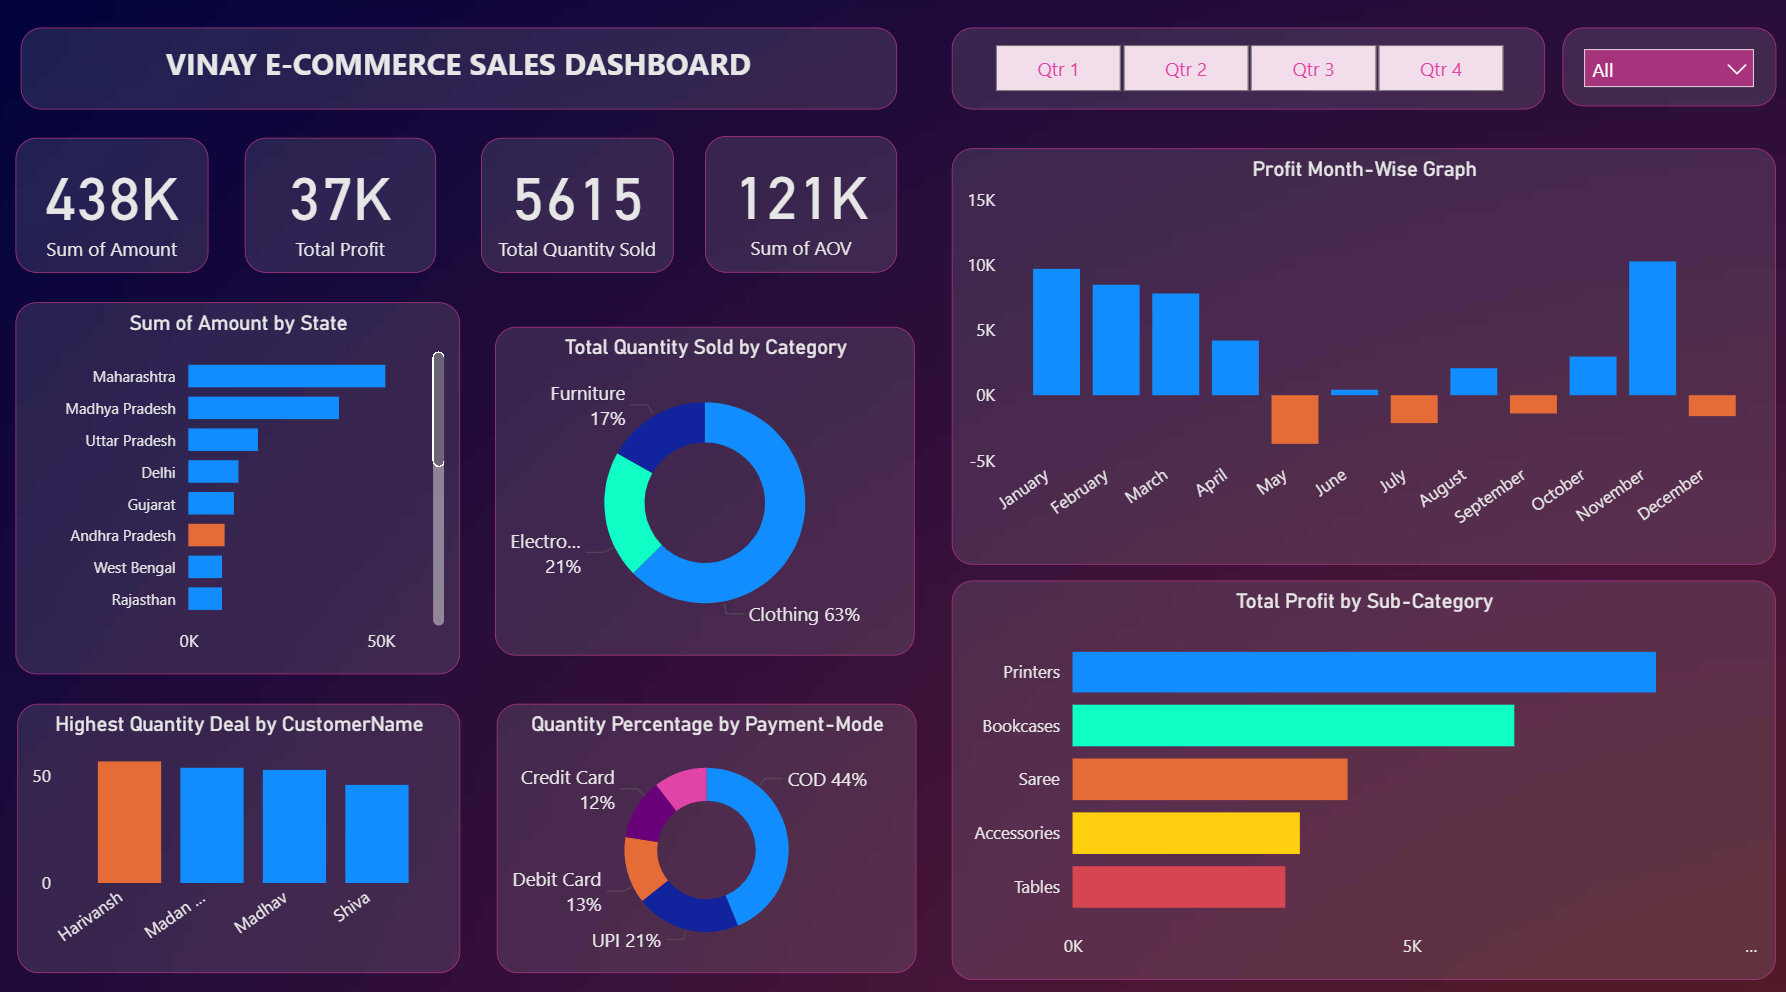

This screenshot's page, from the dashboard's own definition file:
{"tool":"powerbi","page":{"name":"Page 1","canvas":[1280,720],"ordinal":0},"visuals":[{"type":"textbox","box":[21.1,22.4,623.1,58.5],"z":0},{"type":"columnChart","title":"Profit Month-Wise Graph","fields":{"Category":["Orders.Order Date.Variation.Date Hierarchy.Month"],"Y":["Details.Profit"]},"box":[682.8,108.2,585.8,296],"z":1000},{"type":"barChart","fields":{"Category":["Details.Sub-Category"],"Y":["Details.Profit"]},"box":[682.8,415.4,585.8,284.8],"z":2000},{"type":"donutChart","fields":{"Category":["Details.Category"],"Y":["Details.Quantity"]},"box":[358.2,235.1,298.5,233.8],"z":3000},{"type":"donutChart","fields":{"Category":["Details.PaymentMode"],"Y":["Details.Quantity"]},"box":[359.4,503.7,298.5,191.5],"z":4000},{"type":"card","fields":{"Values":["Details.Amount"]},"box":[18,101,137,96],"z":5000},{"type":"card","fields":{"Values":["Details.Quantity"]},"box":[348,101,137,96],"z":6000},{"type":"card","fields":{"Values":["Details.Profit"]},"box":[180,101,136,96],"z":7000},{"type":"card","fields":{"Values":["Details.AOV"]},"box":[507.5,99.5,136.8,97],"z":8000},{"type":"barChart","fields":{"Y":["Details.Amount"],"Category":["Orders.State"]},"box":[17.4,217.7,315.9,264.9],"z":9000},{"type":"columnChart","fields":{"Category":["Orders.CustomerName"],"Y":["Details.Quantity"]},"box":[18.7,503.7,314.7,191.5],"z":10000},{"type":"slicer","fields":{"Values":["Orders.Order Date.Variation.Date Hierarchy.Quarter"]},"box":[682.8,22.4,421.6,58.5],"z":11000},{"type":"slicer","fields":{"Values":["Orders.State"]},"box":[1116.9,22.4,151.7,56],"z":12000}]}

Visuals, with their boxes in screenshot pixels (x1, y1, x2, y2), scaled from the page's 1280x720 canvas onto the 1786x992 screenshot:
textbox: {"x1": 29, "y1": 31, "x2": 899, "y2": 111}
"Profit Month-Wise Graph" columnChart: {"x1": 953, "y1": 149, "x2": 1770, "y2": 557}
barChart - Details.Sub-Category x Details.Profit: {"x1": 953, "y1": 572, "x2": 1770, "y2": 965}
donutChart - Details.Category x Details.Quantity: {"x1": 500, "y1": 324, "x2": 916, "y2": 646}
donutChart - Details.PaymentMode x Details.Quantity: {"x1": 501, "y1": 694, "x2": 918, "y2": 958}
card - Details.Amount: {"x1": 25, "y1": 139, "x2": 216, "y2": 271}
card - Details.Quantity: {"x1": 486, "y1": 139, "x2": 677, "y2": 271}
card - Details.Profit: {"x1": 251, "y1": 139, "x2": 441, "y2": 271}
card - Details.AOV: {"x1": 708, "y1": 137, "x2": 899, "y2": 271}
barChart - Details.Amount x Orders.State: {"x1": 24, "y1": 300, "x2": 465, "y2": 665}
columnChart - Orders.CustomerName x Details.Quantity: {"x1": 26, "y1": 694, "x2": 465, "y2": 958}
slicer - Orders.Order Date.Variation.Date Hierarchy.Quarter: {"x1": 953, "y1": 31, "x2": 1541, "y2": 111}
slicer - Orders.State: {"x1": 1558, "y1": 31, "x2": 1770, "y2": 108}
